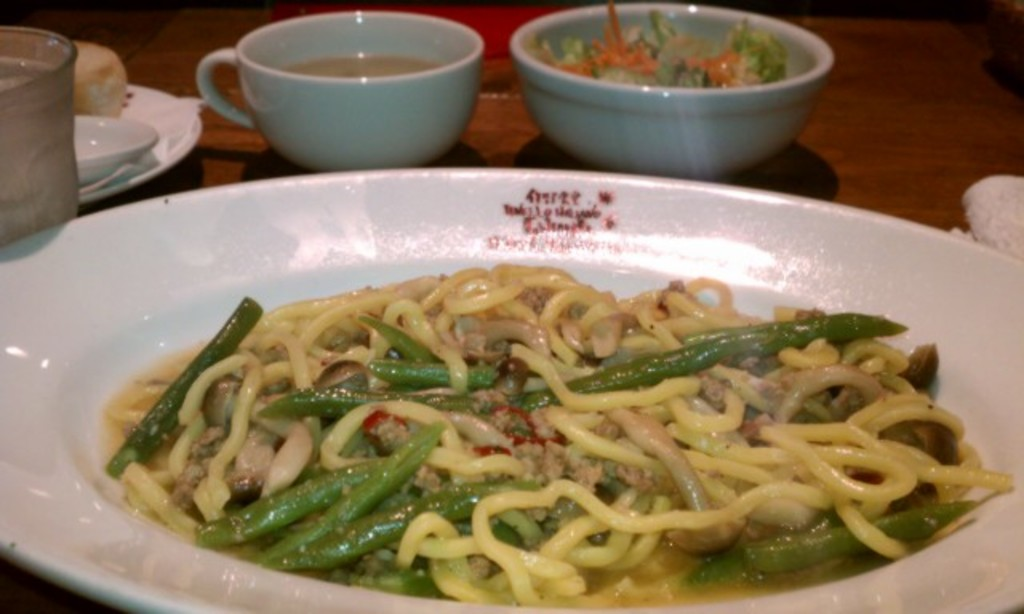pasta: (96, 262, 1016, 604)
